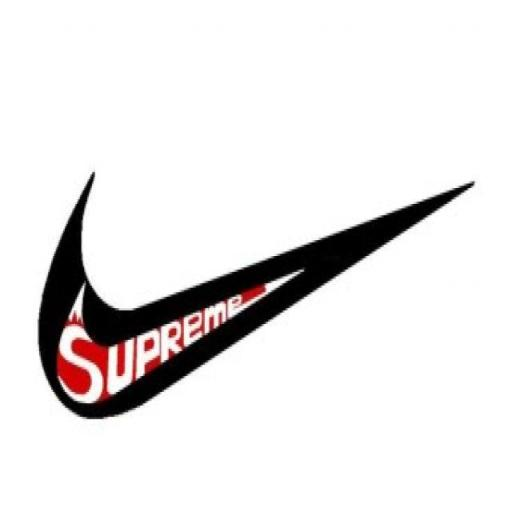Nike: (34, 158, 488, 422)
